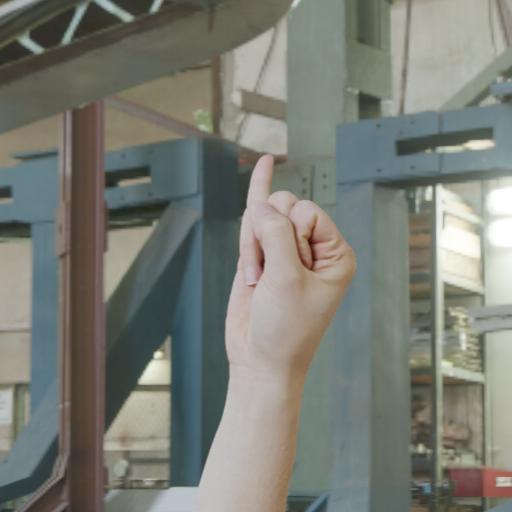I: (220, 143, 362, 388)
